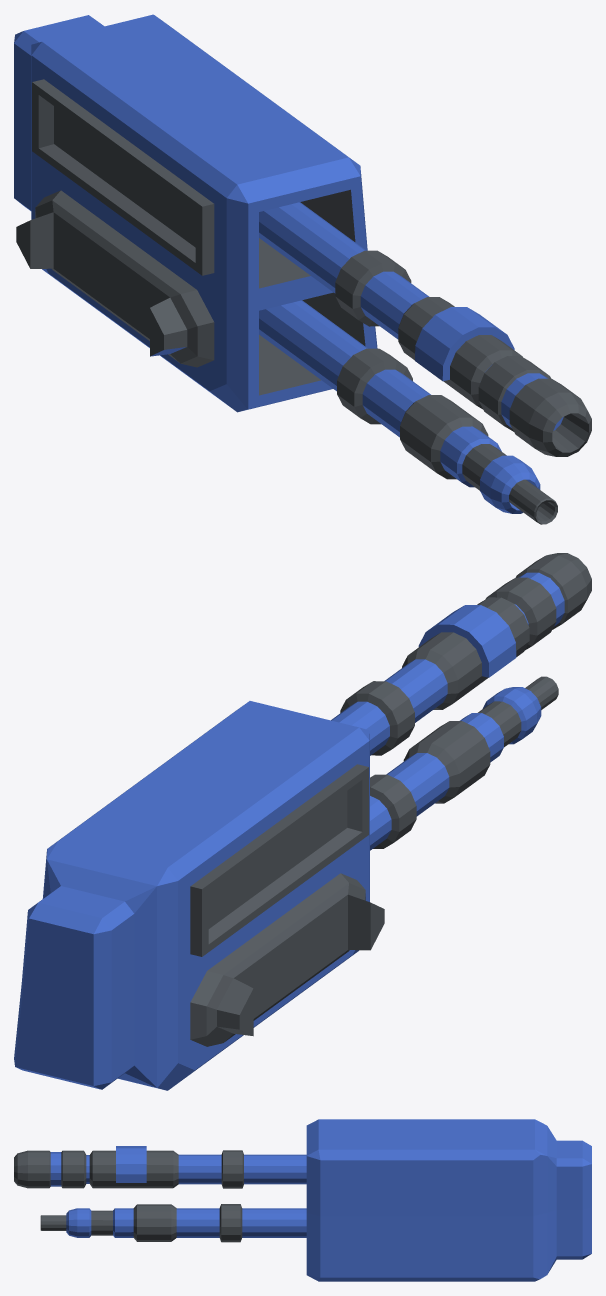
File: Fighter_05_Artillery_Right_Blue.fbx
3 renders of one model, top to bottom at view 1: azimuth 30°, elevation 25°; view 2: azimuth 150°, elevation 25°; view 3: azimuth 270°, elevation 25°, orthographic. The views are drawn at different scales.
Visible parts, largest first — view 1: Fighter_05_Artillery_Right_Blue; view 2: Fighter_05_Artillery_Right_Blue; view 3: Fighter_05_Artillery_Right_Blue.
Boxes of the visible parts, x1,y1,x2,y2 form: Fighter_05_Artillery_Right_Blue: [14, 14, 591, 524]; Fighter_05_Artillery_Right_Blue: [14, 553, 591, 1090]; Fighter_05_Artillery_Right_Blue: [14, 1119, 591, 1281].
Size of the model in its own units: 155 by 175 by 726.
2 materials, 2 textured.
